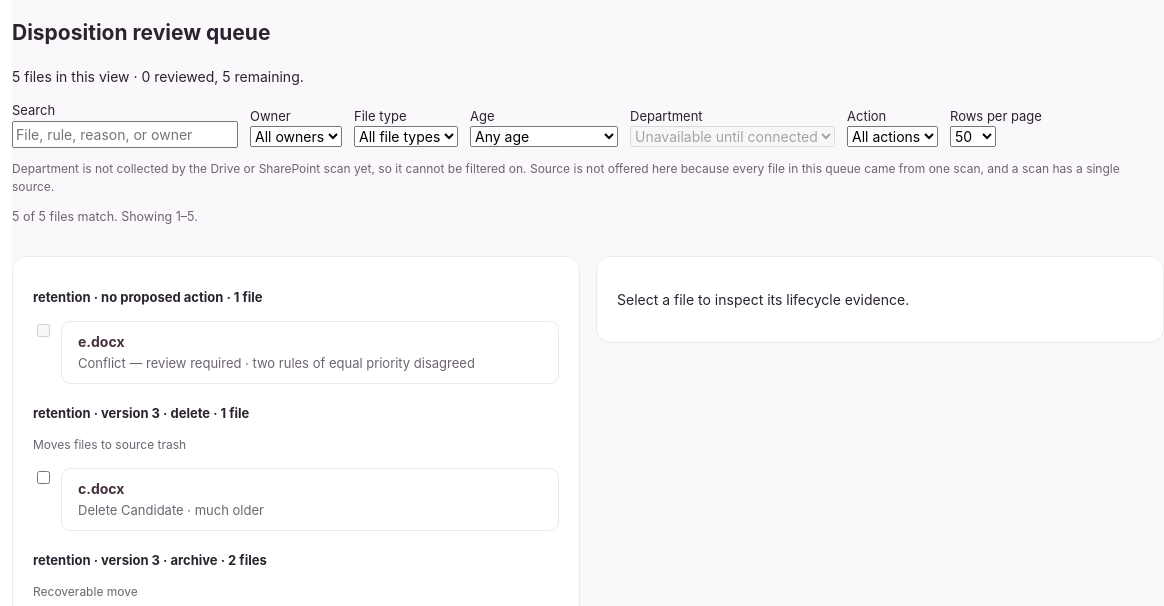
it: the approve panel states what recovery would mean › says the source is unknown rather than promising a Drive window
Click the checkbox named "Select c.docx for batch approval" at (44, 478), box [37,471,50,484]
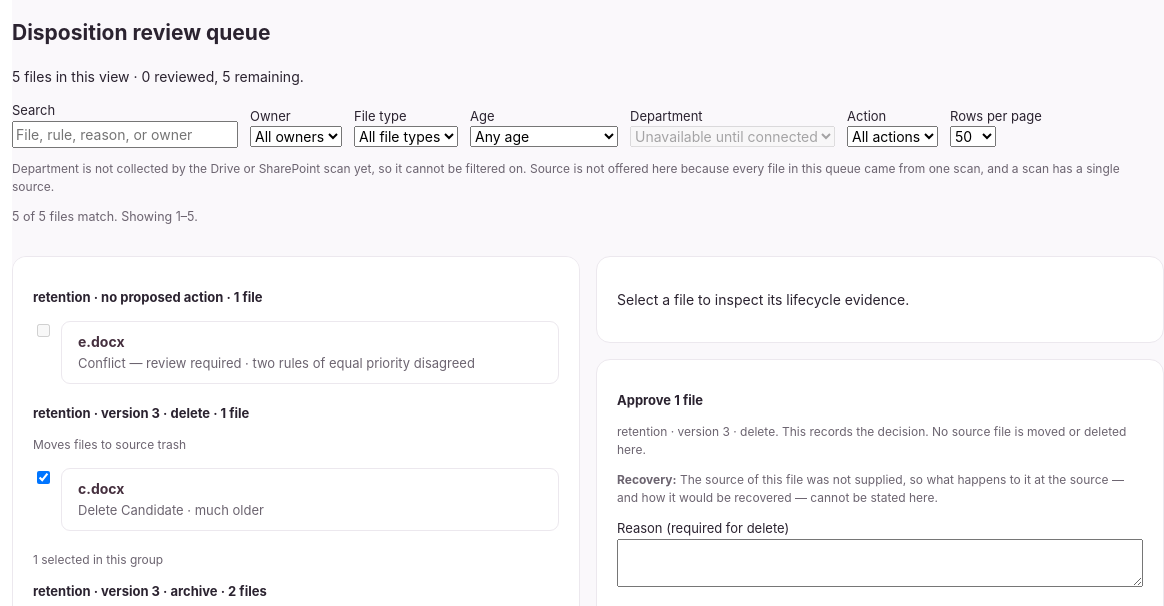
Now the text "source of this file was not supplied" is shown, box [617,472,1124,505]
